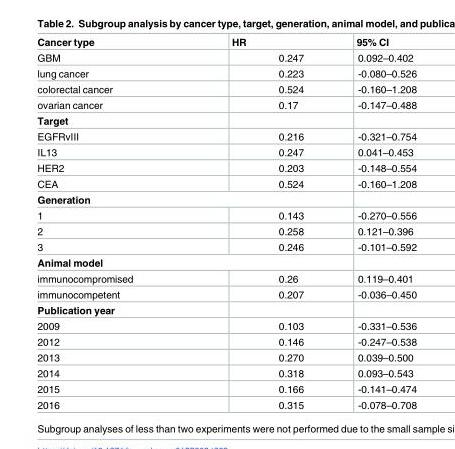table: (36, 37, 416, 410)
table column: (181, 37, 329, 410), (36, 37, 181, 410), (329, 37, 416, 410)
table column header: (36, 37, 416, 49)
table projected row header: (36, 302, 416, 318), (36, 113, 416, 128), (36, 192, 416, 207), (36, 255, 416, 270)
table row: (36, 49, 416, 65), (36, 65, 416, 81), (36, 81, 416, 97), (36, 97, 416, 113), (36, 128, 416, 144), (36, 144, 416, 160), (36, 160, 416, 176), (36, 176, 416, 192), (36, 207, 416, 223), (36, 223, 416, 239), (36, 239, 416, 255), (36, 270, 416, 286), (36, 286, 416, 302), (36, 302, 416, 318), (36, 318, 416, 334), (36, 349, 416, 365), (36, 365, 416, 381), (36, 381, 416, 397), (36, 113, 416, 128), (36, 192, 416, 207), (36, 255, 416, 270), (36, 334, 416, 349), (36, 397, 416, 410), (36, 37, 416, 49)
